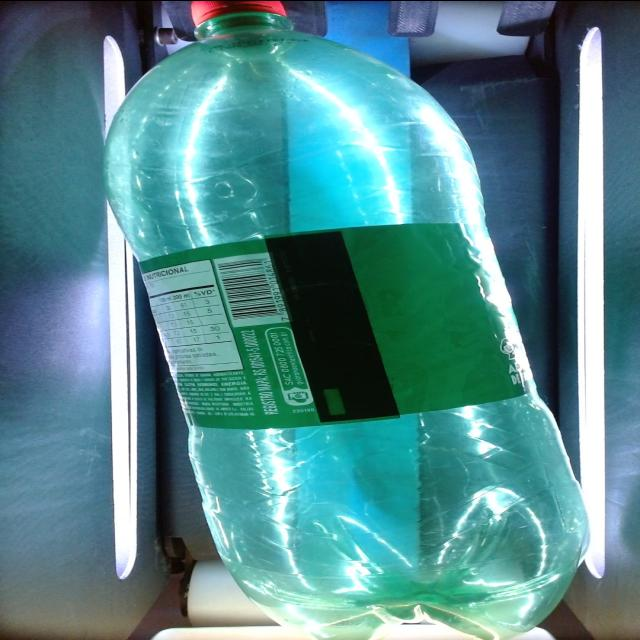bottom: (216, 537, 596, 637)
cap: (171, 0, 286, 48)
code: (208, 253, 292, 337)
